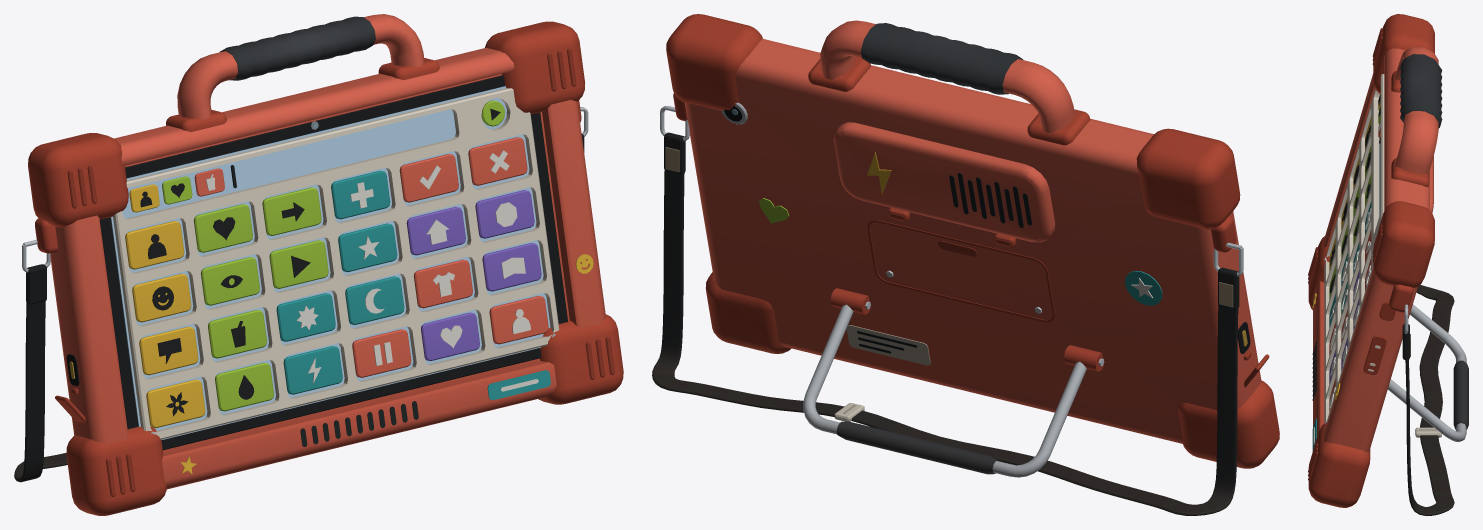
File: tablet.glb
3 renders of one model, left to right at view 1: azimuth 30°, elevation 25°; view 2: azimuth 150°, elevation 25°; view 3: azimuth 270°, elevation 25°, orthographic. The views are drawn at different scales.
Visible parts, largest first — view 1: aac_tablet_01; view 2: aac_tablet_01; view 3: aac_tablet_01.
Part boxes in pixels (<box>): aac_tablet_01: <box>14,14,623,515</box>; aac_tablet_01: <box>652,14,1279,515</box>; aac_tablet_01: <box>1308,14,1468,515</box>.
Bounding box in the file's own units: 0.3295 × 0.2145 × 0.0966.
